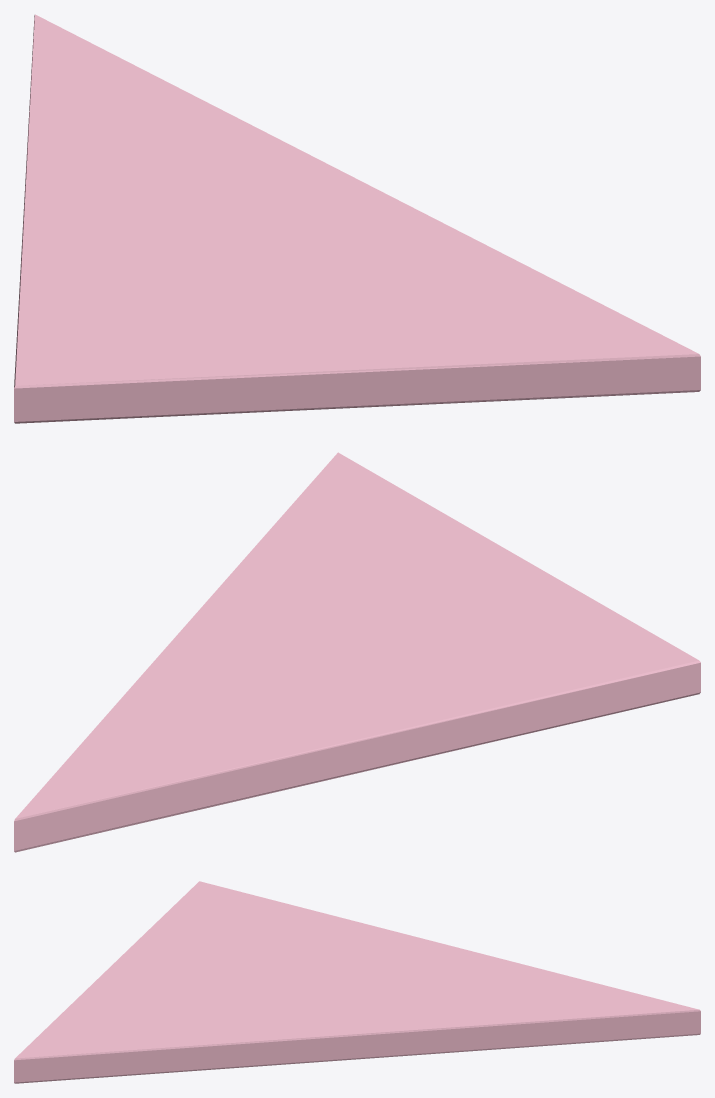
The model's file is LCA.glb.
3 views of the same model, one above another, from view 1: azimuth 30°, elevation 25°; view 2: azimuth 150°, elevation 25°; view 3: azimuth 270°, elevation 25° (orthographic). The views are drawn at different scales.
Size of the model in its own units: 1.03 by 0.068 by 1.68.
